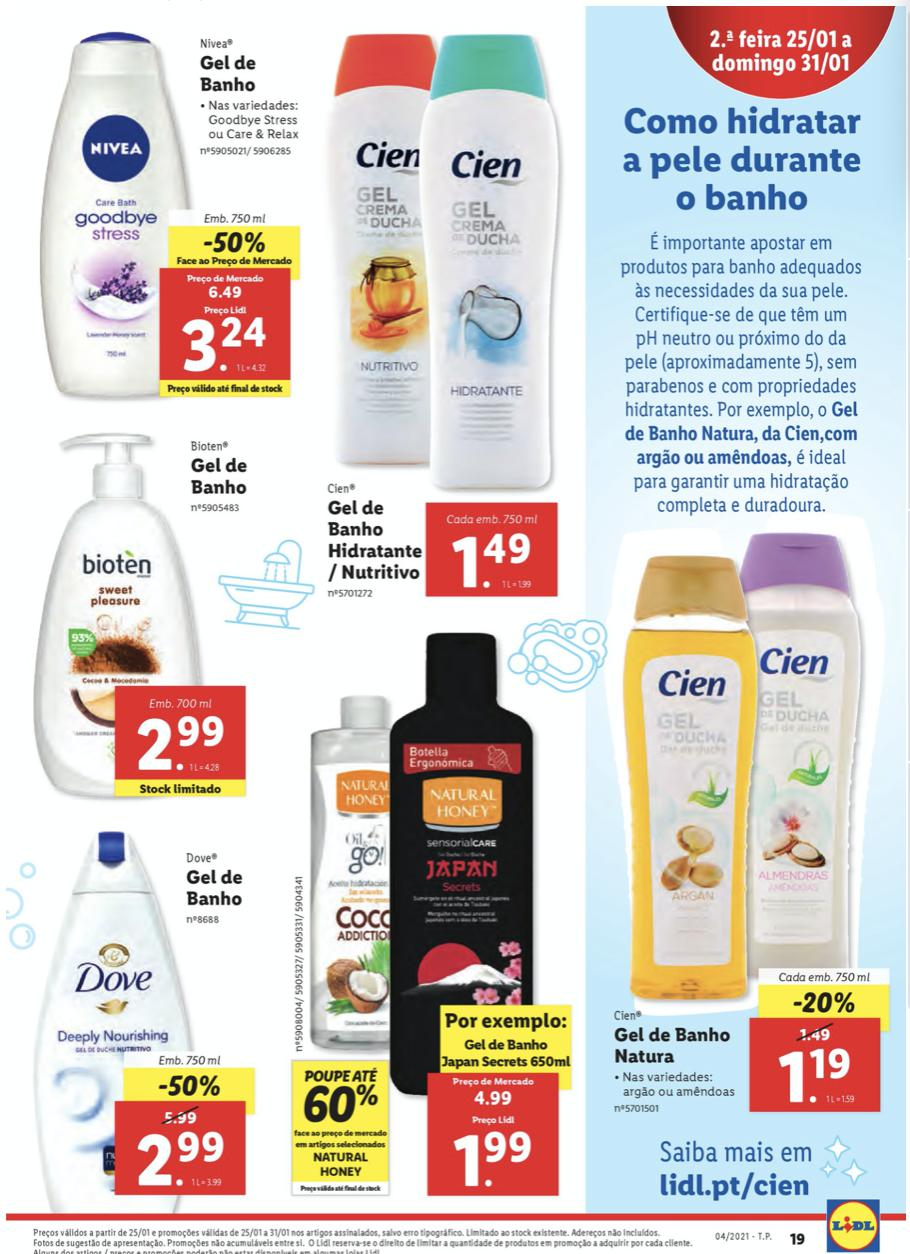name: (325, 495, 423, 584), (609, 1024, 740, 1068), (184, 865, 250, 910), (189, 456, 253, 496), (197, 59, 261, 98)
price: (134, 709, 225, 781), (767, 1042, 855, 1112), (180, 312, 273, 378), (448, 534, 553, 590), (453, 1124, 539, 1192), (137, 1126, 223, 1193)
product: (601, 528, 898, 1124), (284, 623, 573, 1206), (320, 20, 572, 615), (11, 418, 305, 818), (31, 12, 312, 407), (11, 818, 270, 1212)
promotion: (297, 1082, 384, 1128), (790, 988, 858, 1020), (158, 1070, 223, 1103), (200, 232, 270, 257)
